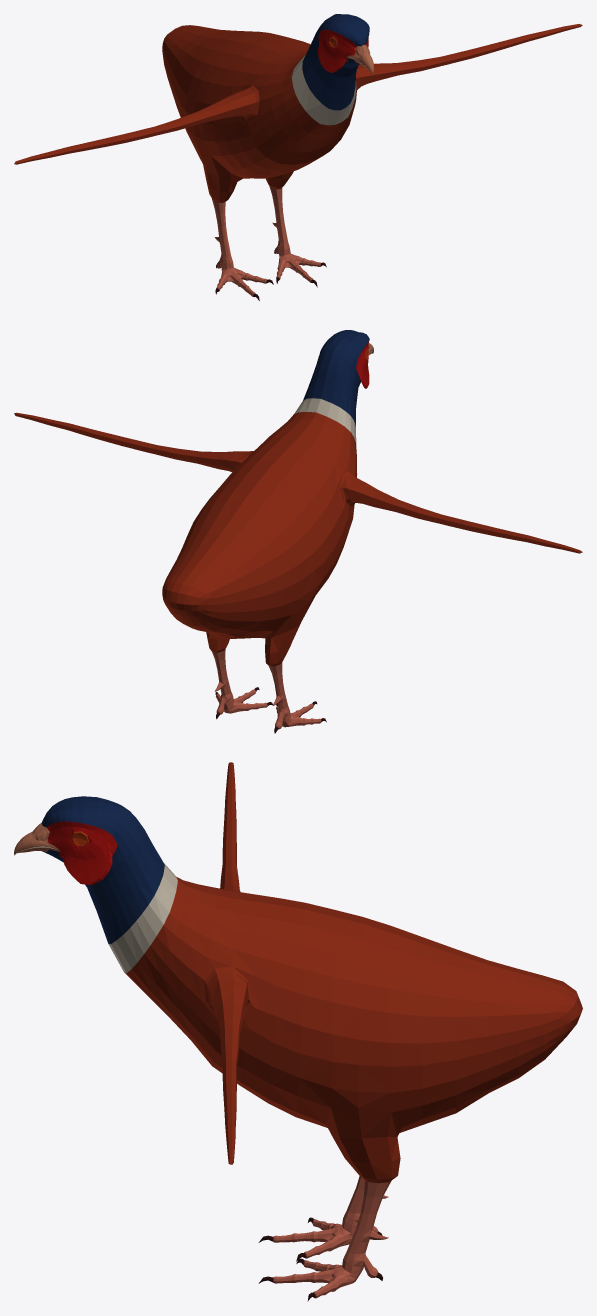
The model's file is pheasant_pheasant.obj.
The picture shows the model from 3 angles, top to bottom: view 1: azimuth 30°, elevation 25°; view 2: azimuth 150°, elevation 25°; view 3: azimuth 270°, elevation 25°; orthographic projection. The views are drawn at different scales.
Bounding box in the file's own units: 0.6946 × 0.3722 × 0.4156.
